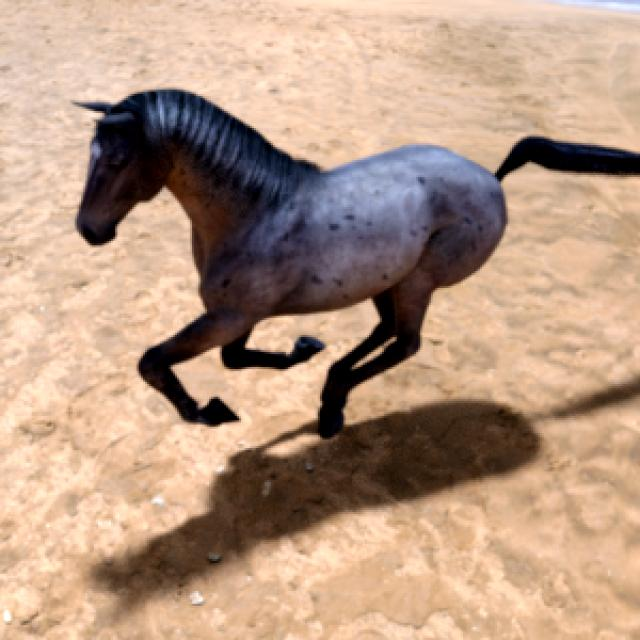horse: (78, 91, 640, 437)
